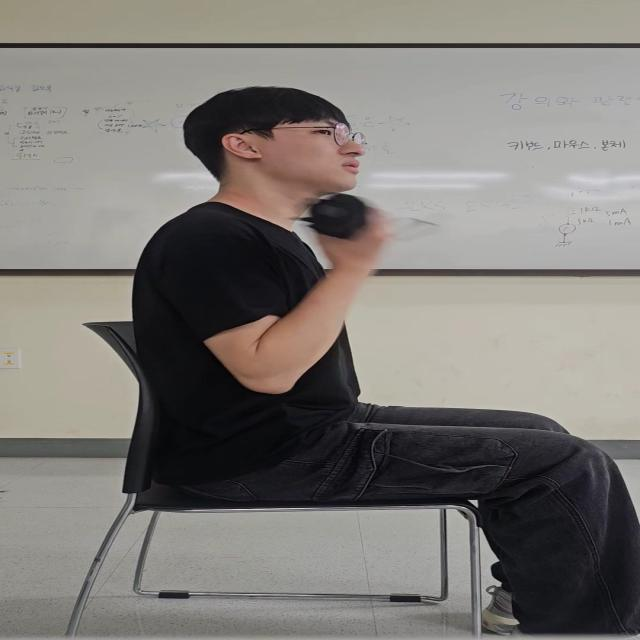curl: (135, 202, 400, 398)
